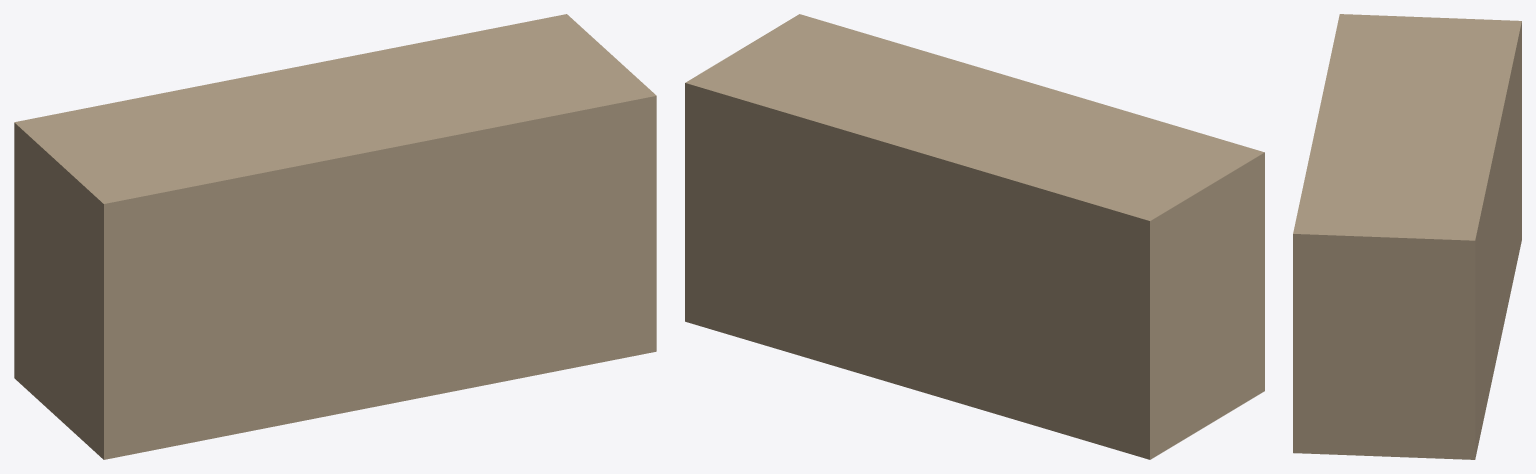
The model's file is bld_99616070.dae.
3 views of the same model, side by side, from view 1: azimuth 30°, elevation 25°; view 2: azimuth 150°, elevation 25°; view 3: azimuth 270°, elevation 25° (orthographic). The views are drawn at different scales.
Visible parts, largest first — view 1: bld_99616070; view 2: bld_99616070; view 3: bld_99616070.
Boxes of the visible parts, x1,y1,x2,y2 form: bld_99616070: [14, 14, 656, 459]; bld_99616070: [685, 14, 1264, 459]; bld_99616070: [1293, 14, 1521, 459].
Bounding box in the file's own units: 17.74 × 7.57 × 8.
